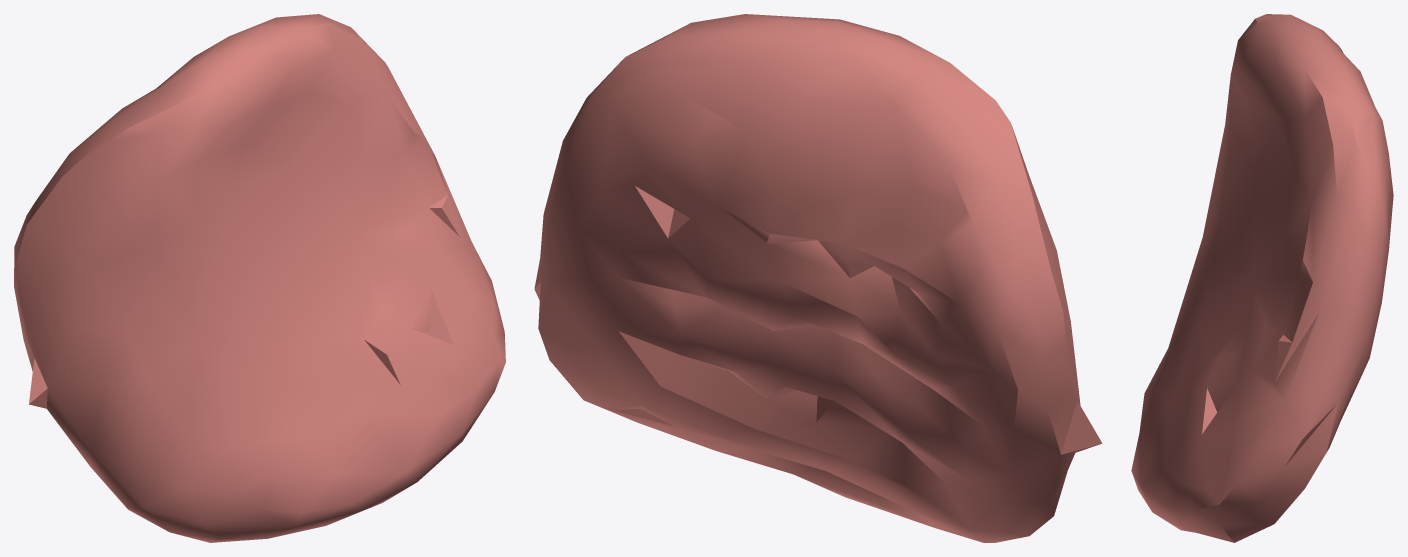
File: fma48984_mm1283m.glb
3 renders of one model, left to right at view 1: azimuth 30°, elevation 25°; view 2: azimuth 150°, elevation 25°; view 3: azimuth 270°, elevation 25°, orthographic. The views are drawn at different scales.
Visible parts, largest first — view 1: FMA48984_MM1283M; view 2: FMA48984_MM1283M; view 3: FMA48984_MM1283M.
Part boxes in pixels (box(x1,y1,x2,y2)): FMA48984_MM1283M: box(14, 14, 505, 542); FMA48984_MM1283M: box(534, 14, 1102, 542); FMA48984_MM1283M: box(1131, 14, 1393, 542).
Size of the model in its own units: 0.00838 by 0.00773 by 0.004.
